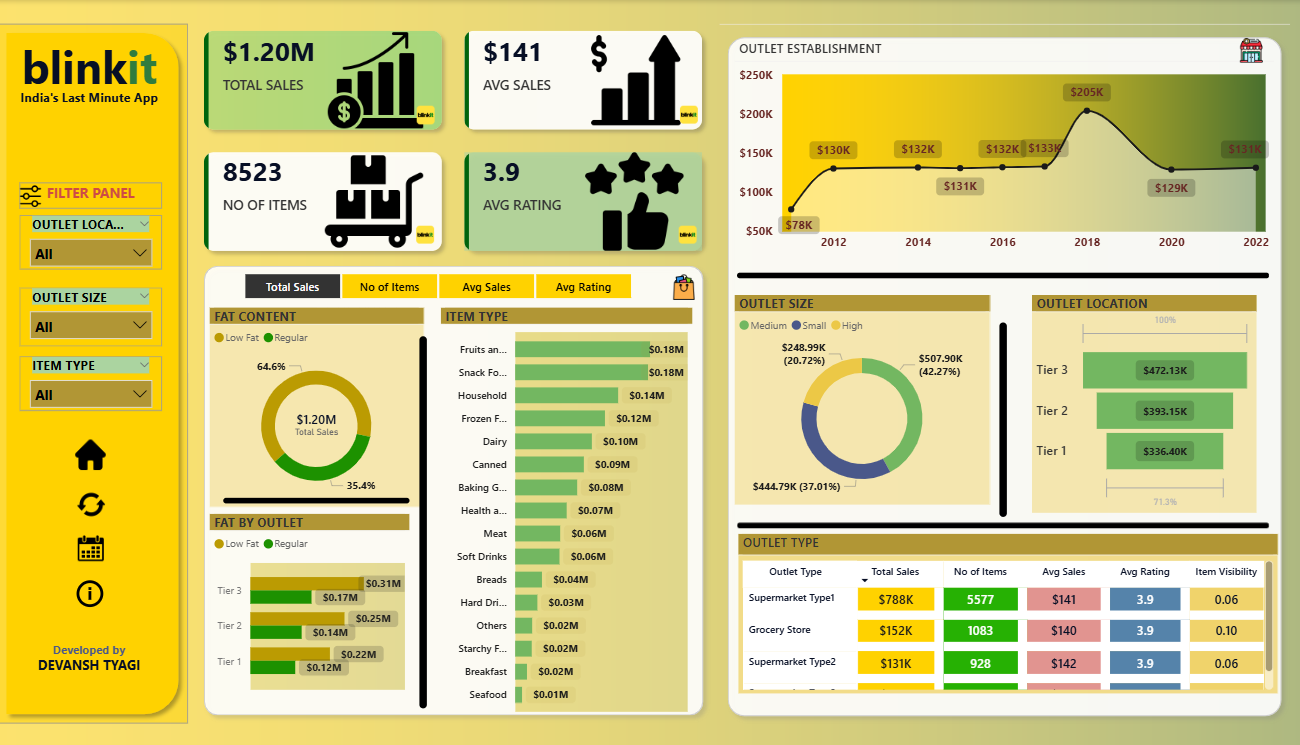

The dashboard page shown, as its layout file describes it:
{"tool":"powerbi","page":{"name":"Home","canvas":[1400,800],"ordinal":0},"visuals":[{"type":"shape","box":[0,25.3,205,750.7],"z":0},{"type":"textbox","box":[0,33,198.1,82.1],"z":1000},{"type":"cardVisual","fields":{"Data":["BlinkIT Grocery Data.Total Sum Sales","BlinkIT Grocery Data.Average Sales","BlinkIT Grocery Data.No of Items","BlinkIT Grocery Data.Avg Rating"]},"box":[204.8,15.8,569.7,270.8],"z":2000},{"type":"image","box":[71.4,466.3,58.7,42.6],"z":3000},{"type":"image","box":[74.4,521.1,52.1,39.7],"z":4000},{"type":"image","box":[81.8,568.8,38,39.1],"z":5000},{"type":"shape","box":[774.5,25.5,611.7,751.1],"z":6000},{"type":"areaChart","title":"OUTLET ESTABLISHMENT","fields":{"Y":["BlinkIT Grocery Data.Total Sum Sales"],"Category":["BlinkIT Grocery Data.Outlet Establishment Year2"]},"box":[790.6,42.5,578.3,234],"z":7000},{"type":"textbox","box":[0,89.6,198.1,34],"z":8000},{"type":"donutChart","title":"OUTLET SIZE","fields":{"Category":["BlinkIT Grocery Data.Outlet Size"],"Y":["BlinkIT Grocery Data.Total Sum Sales"]},"box":[790.6,316,273.6,224.5],"z":9000},{"type":"funnel","title":"OUTLET LOCATION","fields":{"Category":["BlinkIT Grocery Data.Outlet Location Type"],"Y":["BlinkIT Grocery Data.Total Sum Sales"]},"box":[1110.4,316,240.6,234],"z":10000},{"type":"pivotTable","title":"OUTLET TYPE","fields":{"Rows":["BlinkIT Grocery Data.Outlet Type"],"Values":["BlinkIT Grocery Data.Total Sum Sales","BlinkIT Grocery Data.No of Items","BlinkIT Grocery Data.Average Sales","BlinkIT Grocery Data.Avg Rating","Avg(BlinkIT Grocery Data.Item Visibility)"]},"box":[794.3,572.9,578.6,171.4],"z":11000},{"type":"shape","box":[793.4,284.9,570.8,19.8],"z":12000},{"type":"shape","box":[1064.2,346.2,29.2,208.5],"z":13000},{"type":"shape","box":[212.8,276.6,553.2,500],"z":14000},{"type":"donutChart","title":"FAT CONTENT","fields":{"Y":["BlinkIT Grocery Data.Total Sum Sales"],"Category":["BlinkIT Grocery Data.Item Fat Content"]},"box":[228.3,330.2,229.2,213.2],"z":15000},{"type":"shape","box":[793.4,553.8,570.8,19.8],"z":16000},{"type":"cardVisual","fields":{"Data":["BlinkIT Grocery Data.Total Sum Sales"]},"box":[291.9,428.1,102,54.5],"z":17000},{"type":"slicer","fields":{"Values":["Metric.Metric"]},"box":[240,287.5,464.2,39.6],"z":18000},{"type":"barChart","title":"ITEM TYPE","fields":{"Y":["BlinkIT Grocery Data.Total Sum Sales"],"Category":["BlinkIT Grocery Data.Item Type"]},"box":[475.3,330.2,269.8,438.1],"z":19000},{"type":"shape","box":[442.5,360.4,29.2,399.1],"z":20000},{"type":"clusteredBarChart","title":"FAT BY OUTLET","fields":{"Y":["BlinkIT Grocery Data.Total Sum Sales"],"Category":["BlinkIT Grocery Data.Outlet Location Type"],"Series":["BlinkIT Grocery Data.Item Fat Content"]},"box":[227.9,550.9,214.5,193],"z":21000},{"type":"shape","box":[242.6,526.8,199.7,20.1],"z":22000},{"type":"image","box":[725.5,108.5,33,29.2],"z":23000},{"type":"image","box":[723.6,237.7,33,29.2],"z":24000},{"type":"image","box":[442.5,237.7,33,29.2],"z":25000},{"type":"image","box":[443.7,108.6,32.2,29.5],"z":26000},{"type":"image","box":[715.6,289.2,41.3,36.9],"z":27000},{"type":"image","box":[1327.5,33.4,36,40.4],"z":28000},{"type":"slicer","fields":{"Values":["BlinkIT Grocery Data.Outlet Location Type"]},"box":[23.7,231.2,153,58],"z":29000},{"type":"slicer","fields":{"Values":["BlinkIT Grocery Data.Outlet Size"]},"box":[23.7,307.7,153,63],"z":30000},{"type":"slicer","fields":{"Values":["BlinkIT Grocery Data.Item Type"]},"box":[23.7,382.4,153,58],"z":31000},{"type":"textbox","box":[24.1,195.7,152.8,28.2],"z":32000},{"type":"image","box":[18.9,184,34.9,53.8],"z":33000},{"type":"textbox","box":[36.8,680.5,125.5,28.8],"z":34000},{"type":"textbox","box":[36.8,697.8,125.5,28.8],"z":35000},{"type":"textbox","box":[51.8,730,125.5,28.8],"z":37000},{"type":"actionButton","box":[80.6,616.6,38.5,39.7],"z":38000}]}

Visuals, with their boxes in screenshot pixels (x1, y1, x2, y2), scaled from the page's 1400x800 canvas onto the 1300x745 screenshot:
shape: (0,24,190,723)
textbox: (0,31,184,107)
cardVisual - BlinkIT Grocery Data.Total Sum Sales x BlinkIT Grocery Data.Average Sales: (190,15,719,267)
image: (66,434,121,474)
image: (69,485,117,522)
image: (76,530,111,566)
shape: (719,24,1287,723)
"OUTLET ESTABLISHMENT" areaChart: (734,40,1271,257)
textbox: (0,83,184,115)
"OUTLET SIZE" donutChart: (734,294,988,503)
"OUTLET LOCATION" funnel: (1031,294,1254,512)
"OUTLET TYPE" pivotTable: (738,534,1275,693)
shape: (737,265,1267,284)
shape: (988,322,1015,517)
shape: (198,258,711,723)
"FAT CONTENT" donutChart: (212,307,425,506)
shape: (737,516,1267,534)
cardVisual - BlinkIT Grocery Data.Total Sum Sales: (271,399,366,449)
slicer - Metric.Metric: (223,268,654,305)
"ITEM TYPE" barChart: (441,307,692,715)
shape: (411,336,438,707)
"FAT BY OUTLET" clusteredBarChart: (212,513,411,693)
shape: (225,491,411,509)
image: (674,101,704,128)
image: (672,221,703,249)
image: (411,221,442,249)
image: (412,101,442,129)
image: (664,269,703,304)
image: (1233,31,1266,69)
slicer - BlinkIT Grocery Data.Outlet Location Type: (22,215,164,269)
slicer - BlinkIT Grocery Data.Outlet Size: (22,287,164,345)
slicer - BlinkIT Grocery Data.Item Type: (22,356,164,410)
textbox: (22,182,164,209)
image: (18,171,50,221)
textbox: (34,634,151,661)
textbox: (34,650,151,677)
textbox: (48,680,165,707)
actionButton: (75,574,111,611)
